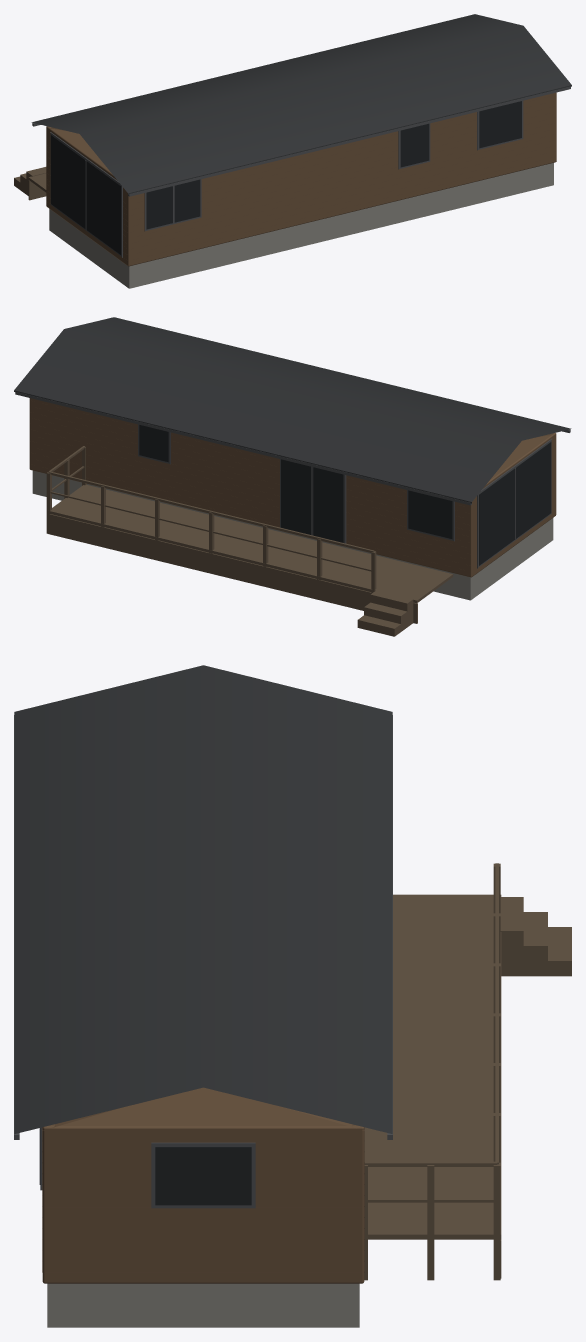
File: SM_Prop_static_caravan_2.glb
The picture shows the model from 3 angles, top to bottom: view 1: azimuth 30°, elevation 25°; view 2: azimuth 150°, elevation 25°; view 3: azimuth 270°, elevation 25°; orthographic projection. The views are drawn at different scales.
Parts seen in each view (by area): view 1: SM_Prop_static_caravan_2; view 2: SM_Prop_static_caravan_2; view 3: SM_Prop_static_caravan_2.
Part boxes in pixels (x1,y1,x2,y2): SM_Prop_static_caravan_2: (14,14,571,288); SM_Prop_static_caravan_2: (14,317,571,636); SM_Prop_static_caravan_2: (14,665,571,1327).
Size of the model in its own units: 12.42 by 3.42 by 6.93.
